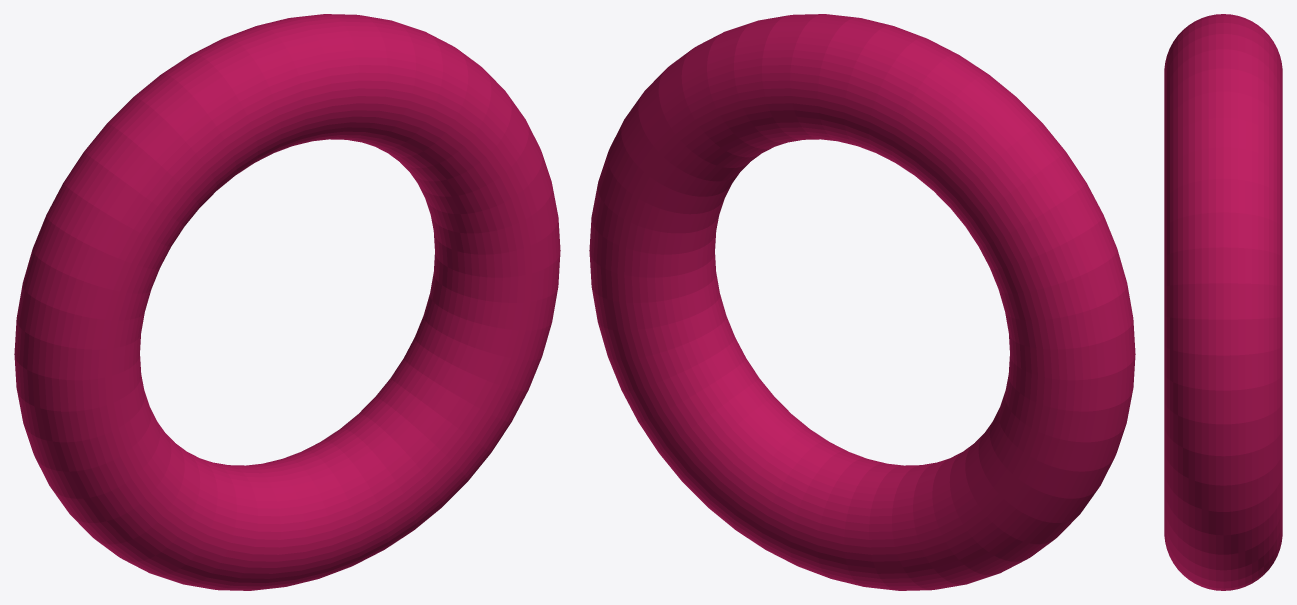
3 views of the same model, side by side, from view 1: azimuth 30°, elevation 25°; view 2: azimuth 150°, elevation 25°; view 3: azimuth 270°, elevation 25° (orthographic). The views are drawn at different scales.
Visible parts, largest first — view 1: world; view 2: world; view 3: world.
Part boxes in pixels (left/top/right/bottom): world: left=14, top=14, right=560, bottom=590; world: left=589, top=14, right=1135, bottom=590; world: left=1164, top=14, right=1282, bottom=590.
Bounding box in the file's own units: 34.4 × 34.33 × 7.05.
